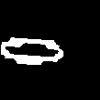chain: (1, 38, 62, 64)
